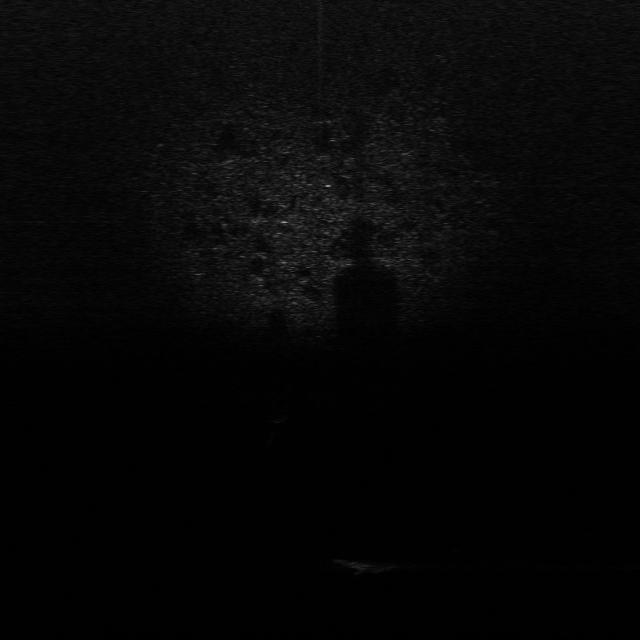metal bucket: (334, 554, 394, 573)
